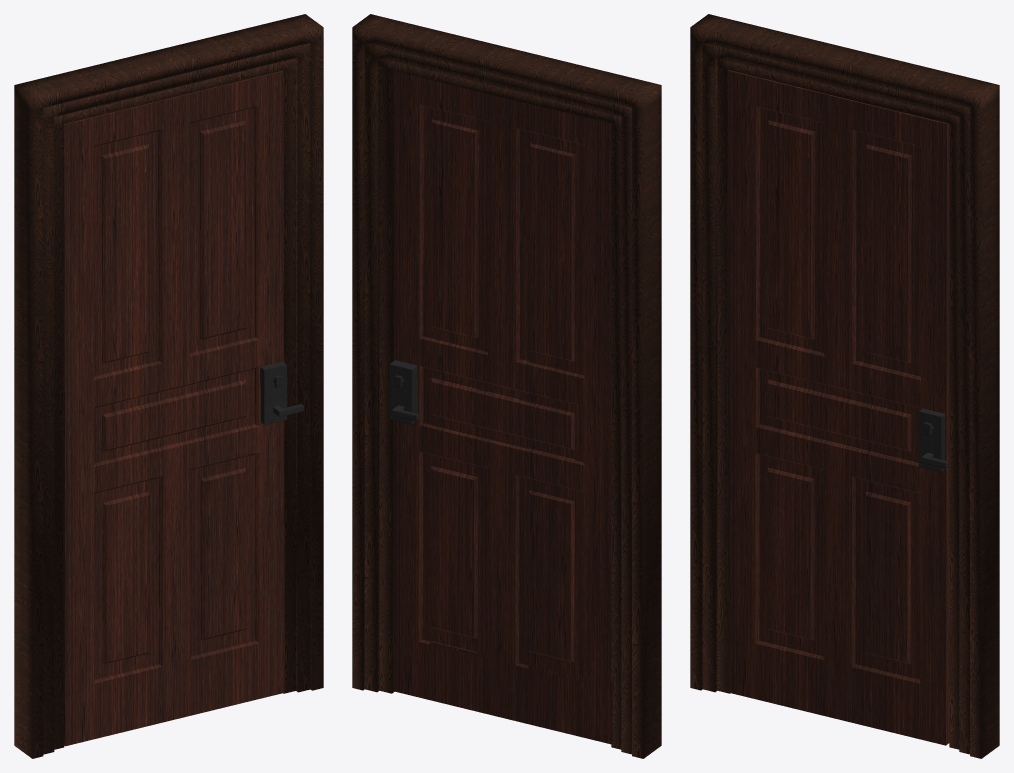
File: wooddoor.glb
3 renders of one model, left to right at view 1: azimuth 30°, elevation 25°; view 2: azimuth 150°, elevation 25°; view 3: azimuth 330°, elevation 25°, orthographic.
Visible parts, largest first — view 1: Plane, Plane.001; view 2: Plane, Plane.001; view 3: Plane, Plane.001.
Part boxes in pixels (bbox=[...]): Plane: bbox=[63, 70, 303, 746]; Plane.001: bbox=[14, 14, 323, 758]; Plane: bbox=[389, 71, 612, 744]; Plane.001: bbox=[352, 14, 661, 758]; Plane: bbox=[726, 70, 949, 745]; Plane.001: bbox=[690, 14, 999, 758].
Size of the model in its own units: 2.15 by 4.66 by 0.4307.
3 materials, 3 textured.
